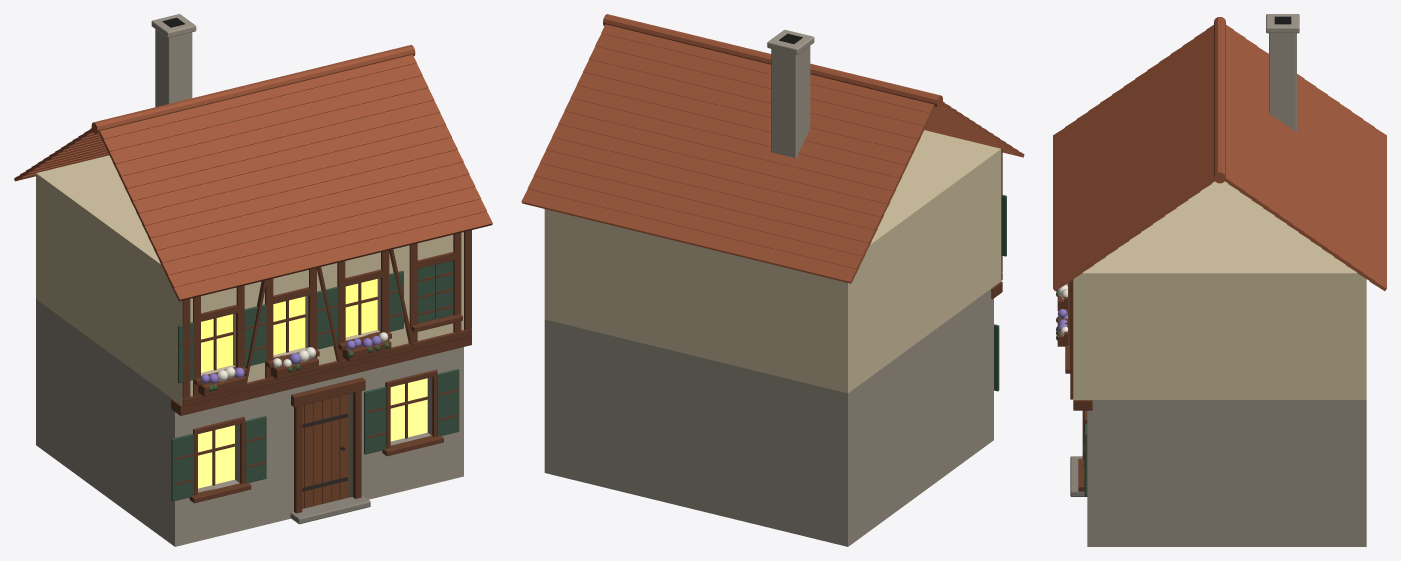
File: casa_6x5.glb
3 views of the same model, side by side, from view 1: azimuth 30°, elevation 25°; view 2: azimuth 150°, elevation 25°; view 3: azimuth 270°, elevation 25° (orthographic). The views are drawn at different scales.
Parts seen in each view (by area): view 1: casa_6x5_pa_dentro, casa_6x5_pb_dentro, casa_6x5_pb.003, casa_6x5_tejado_s_0, casa_6x5_tejado_s_2, casa_6x5_tejado_s_4, casa_6x5_tejado_s_7, casa_6x5_tejado_s_1, casa_6x5_tejado_s_9, casa_6x5_tejado_s_10, casa_6x5_tejado_s_11, casa_6x5_tejado_s_8 (+61 smaller); view 2: casa_6x5_pb_dentro, casa_6x5_pa_dentro, casa_6x5_tejado_n_0, casa_6x5_tejado_n_2, casa_6x5_tejado_n_3, casa_6x5_tejado_n_6, casa_6x5_tejado_n_5, casa_6x5_tejado_n_1, casa_6x5_tejado_n_4, casa_6x5_tejado_n_7, casa_6x5_tejado_n_8, casa_6x5_tejado_n_9 (+9 smaller); view 3: casa_6x5_pa_dentro, casa_6x5_pb_dentro, casa_6x5_chimenea0, casa_6x5_pb.008, casa_6x5_tejado_n_6, casa_6x5_tejado_s_7, casa_6x5_tejado_s_11, casa_6x5_tejado_s_2, casa_6x5_tejado_n_2, casa_6x5_tejado_n_11, casa_6x5_tejado_s_6, casa_6x5_tejado_s_10 (+25 smaller).
Boxes of the visible parts, x1=… form: casa_6x5_pa_dentro: x1=36, y1=155, x2=174, y2=400; casa_6x5_pb_dentro: x1=36, y1=299, x2=166, y2=540; casa_6x5_pb.003: x1=235, y1=387, x2=300, y2=530; casa_6x5_tejado_s_0: x1=171, y1=211, x2=492, y2=301; casa_6x5_tejado_s_2: x1=159, y1=187, x2=481, y2=276; casa_6x5_tejado_s_4: x1=148, y1=162, x2=469, y2=251; casa_6x5_tejado_s_7: x1=130, y1=125, x2=451, y2=213; casa_6x5_tejado_s_1: x1=165, y1=199, x2=486, y2=287; casa_6x5_tejado_s_9: x1=118, y1=100, x2=440, y2=189; casa_6x5_tejado_s_10: x1=112, y1=88, x2=434, y2=176; casa_6x5_tejado_s_11: x1=107, y1=75, x2=428, y2=165; casa_6x5_tejado_s_8: x1=124, y1=112, x2=445, y2=201; casa_6x5_pb_dentro: x1=544, y1=293, x2=985, y2=546; casa_6x5_pa_dentro: x1=544, y1=136, x2=993, y2=393; casa_6x5_tejado_n_0: x1=521, y1=189, x2=859, y2=283; casa_6x5_tejado_n_2: x1=533, y1=163, x2=871, y2=257; casa_6x5_tejado_n_3: x1=540, y1=150, x2=877, y2=244; casa_6x5_tejado_n_6: x1=558, y1=111, x2=896, y2=205; casa_6x5_tejado_n_5: x1=552, y1=124, x2=889, y2=218; casa_6x5_tejado_n_1: x1=527, y1=176, x2=865, y2=270; casa_6x5_tejado_n_4: x1=546, y1=137, x2=883, y2=230; casa_6x5_tejado_n_7: x1=564, y1=98, x2=902, y2=192; casa_6x5_tejado_n_8: x1=570, y1=85, x2=908, y2=178; casa_6x5_tejado_n_9: x1=577, y1=72, x2=914, y2=165; casa_6x5_pa_dentro: x1=1087, y1=181, x2=1366, y2=399; casa_6x5_pb_dentro: x1=1104, y1=400, x2=1366, y2=546; casa_6x5_chimenea0: x1=1269, y1=33, x2=1296, y2=131; casa_6x5_pb.008: x1=1087, y1=400, x2=1103, y2=546; casa_6x5_tejado_n_6: x1=1298, y1=79, x2=1316, y2=241; casa_6x5_tejado_s_7: x1=1135, y1=71, x2=1152, y2=233; casa_6x5_tejado_s_11: x1=1182, y1=39, x2=1200, y2=201; casa_6x5_tejado_s_2: x1=1076, y1=112, x2=1093, y2=274; casa_6x5_tejado_n_2: x1=1346, y1=112, x2=1363, y2=274; casa_6x5_tejado_n_11: x1=1239, y1=39, x2=1257, y2=201; casa_6x5_tejado_s_6: x1=1123, y1=79, x2=1141, y2=241; casa_6x5_tejado_s_10: x1=1170, y1=47, x2=1187, y2=209.
Bounding box in the file's own units: 6.6 × 8.53 × 5.97.
